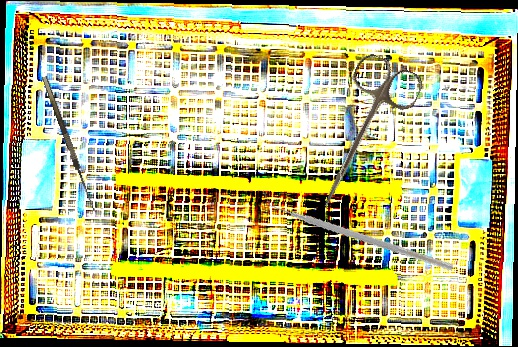Chopper: (262, 150, 454, 309)
Hook Surgical: (41, 73, 104, 213)
Iris Scissors: (297, 50, 427, 222)
